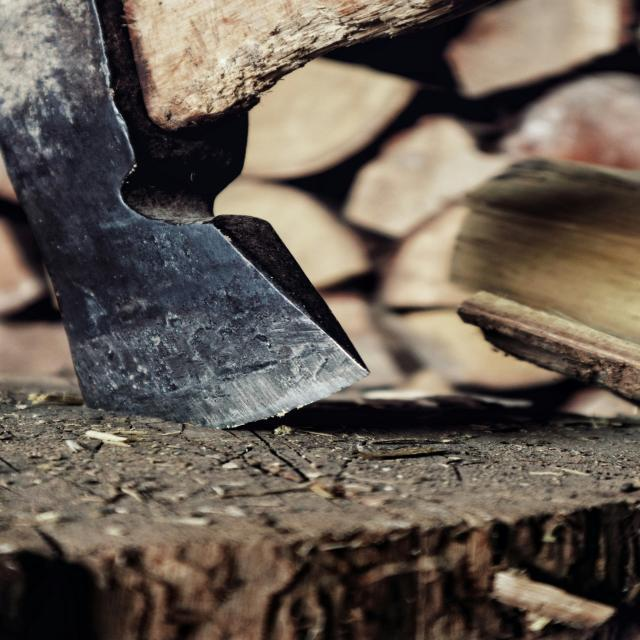Axe: (0, 0, 480, 427)
